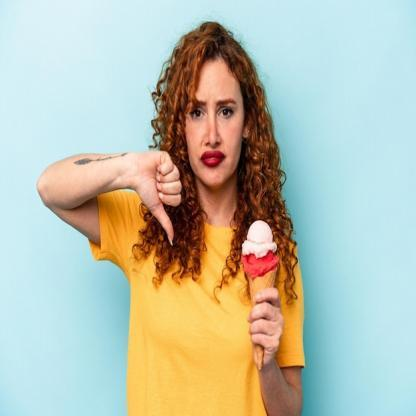thumb_down: (136, 145, 184, 249)
